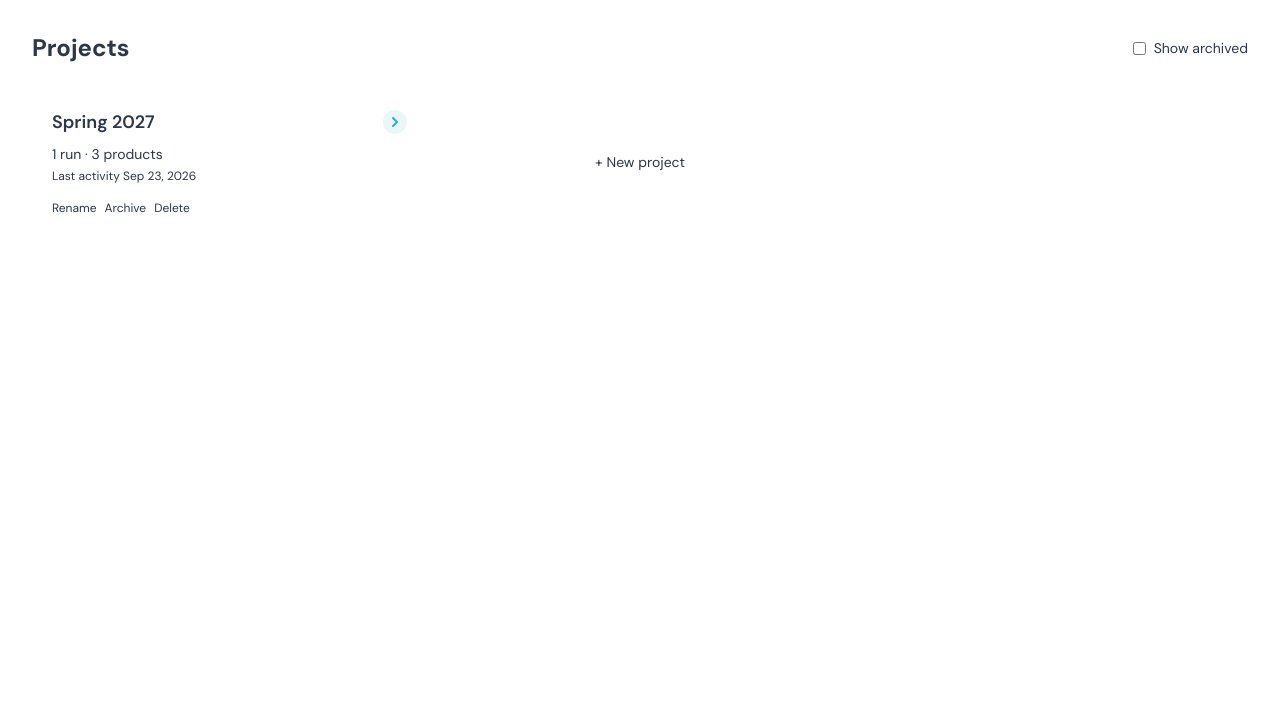
Test case: ProjectsGrid › renames a project in place
This screenshot has width=1280, height=720.
Click the button with aria-label "Rename Spring 2027" at (74, 208), box [52,200,96,216]
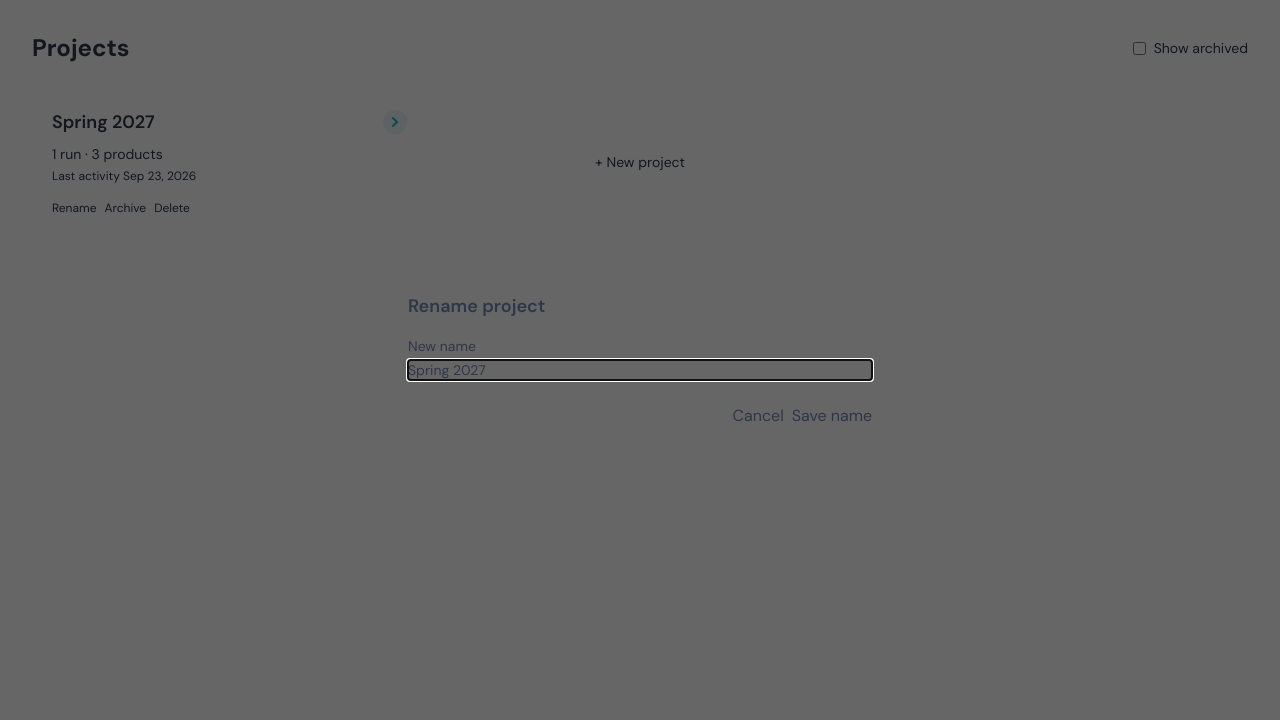
Replace the text in the field labelled "New name" with "Spring 2027 (v2)" at (640, 370), box [408,360,872,380]
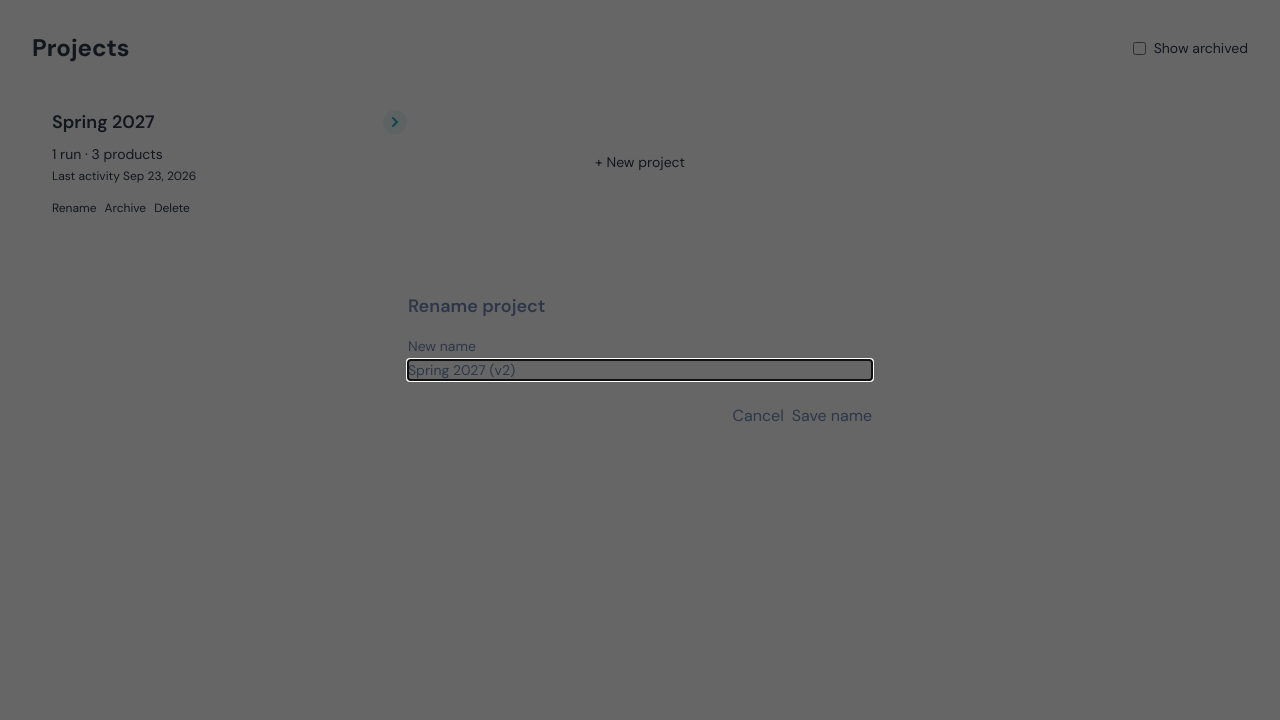
Click the button "Save name" at (832, 416), box [792,404,872,428]
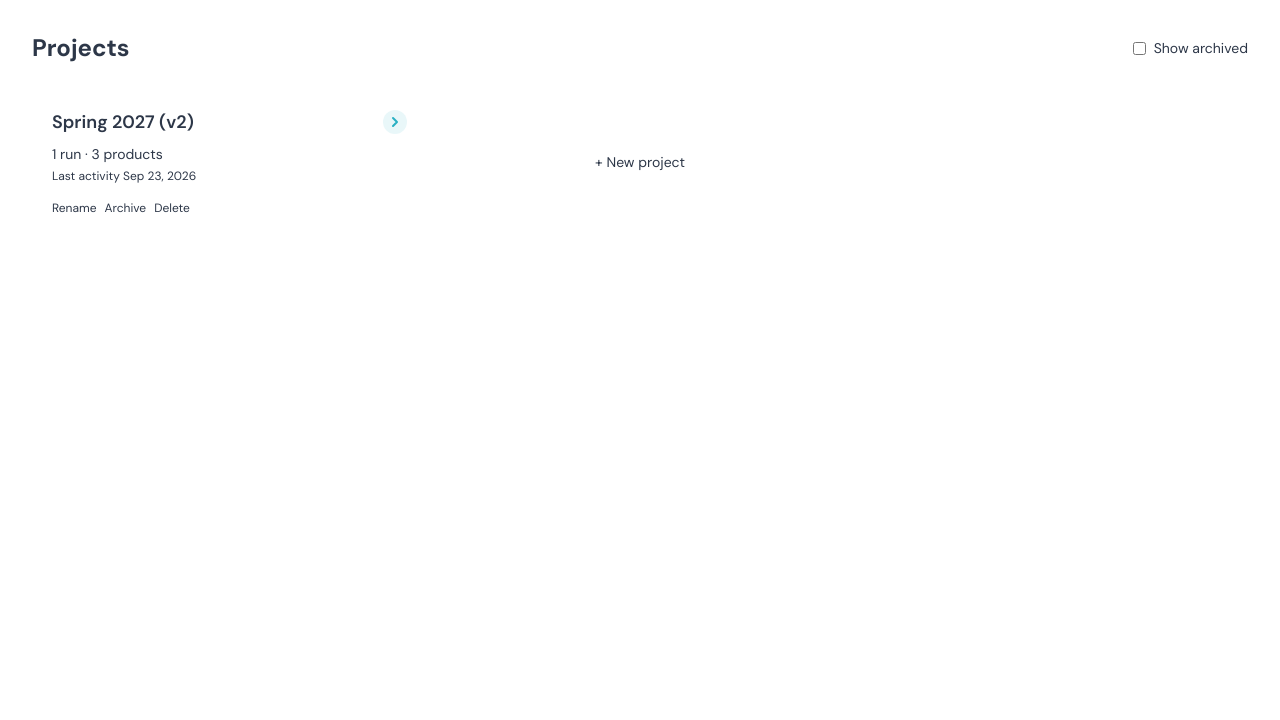
Check: the list item "Spring 2027 (v2)" is shown, box [32,88,427,236]
